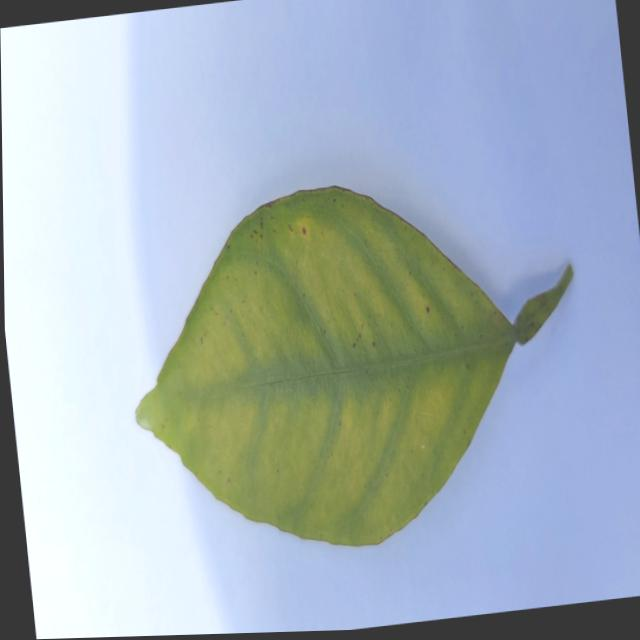greening: (136, 186, 572, 544)
